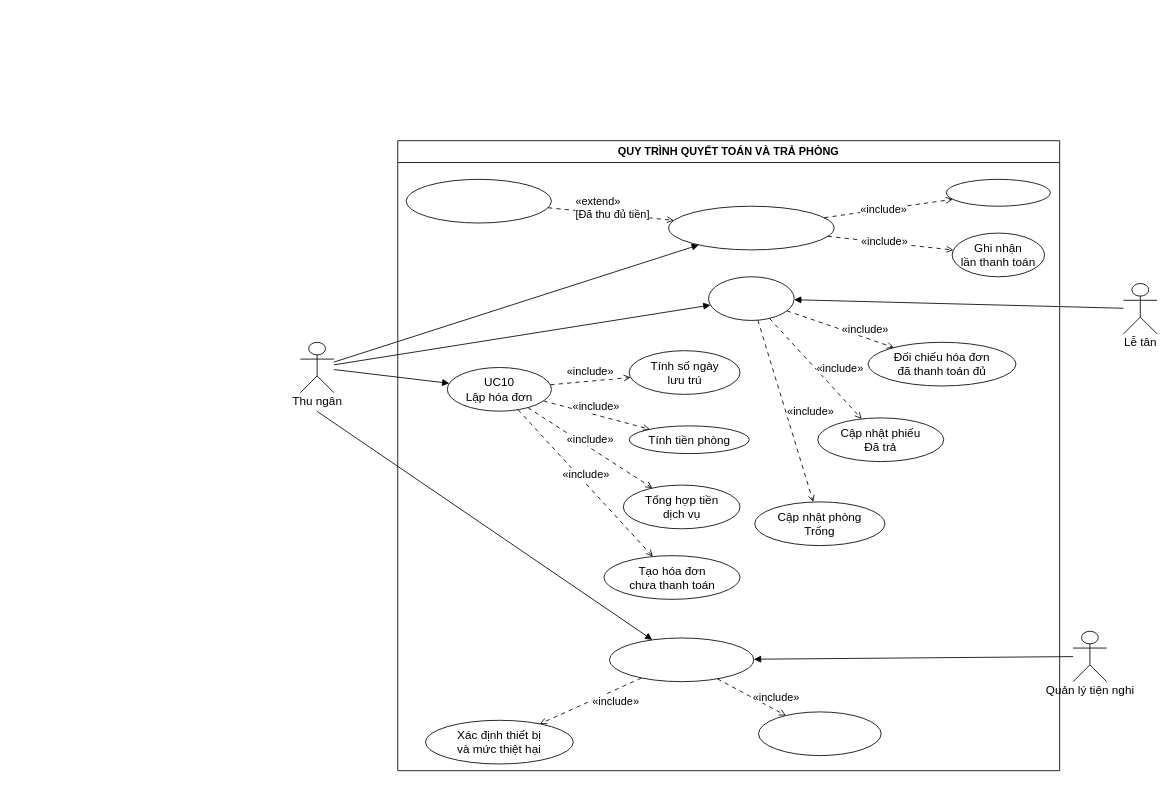
The diagram is 1176 pixels wide and 785 high, and some of its shapes have lost their labels. Here are the shapes that lost their labels. From the top down, the centre of each, then its label:
At (478,200): "Cập nhật hóa đơn Đã thanh toán".
At (997,192): "Kiểm tra dư nợ".
At (751,227): "UC11 Thanh toán hóa đơn".
At (751,298): "UC12 Trả phòng".
At (681,659): "UC09 Lập phiếu đền bù".
At (819,733): "Lưu phiếu và chi tiết đền bù".
